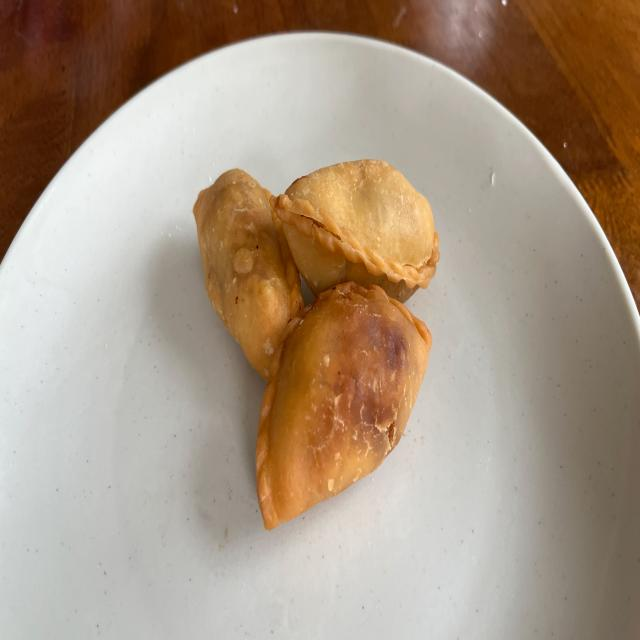karipap: (256, 282, 431, 529), (275, 160, 439, 302), (194, 169, 302, 380)
